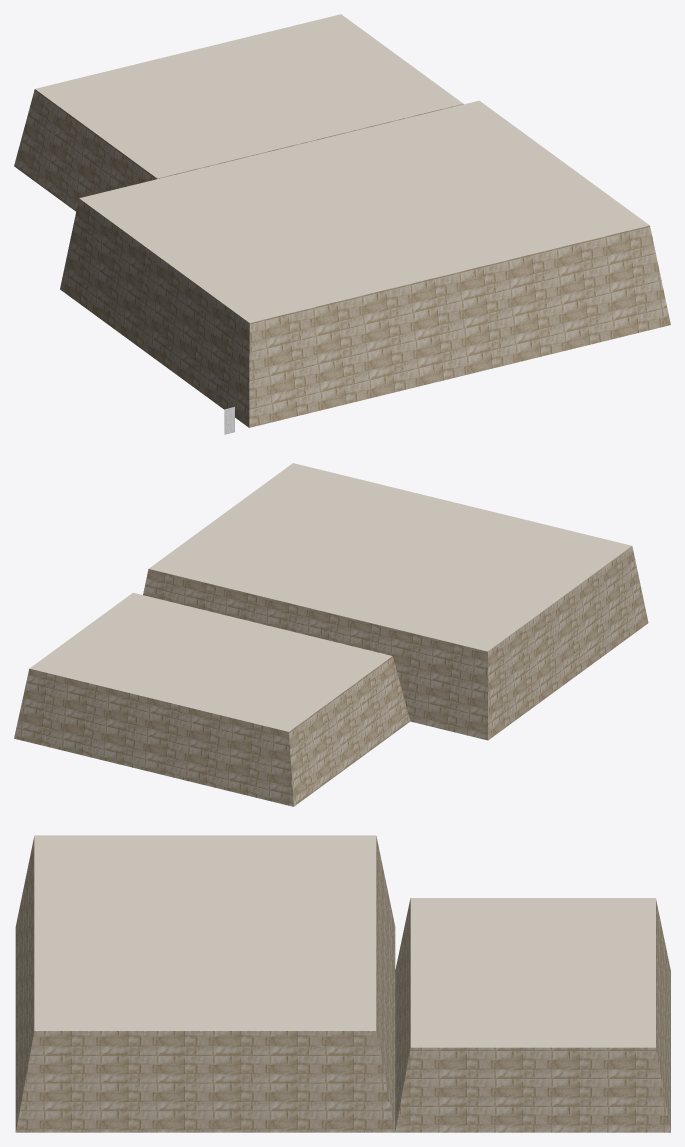
File: Lepsius_XXV.glb
3 renders of one model, top to bottom at view 1: azimuth 30°, elevation 25°; view 2: azimuth 150°, elevation 25°; view 3: azimuth 270°, elevation 25°, orthographic. The views are drawn at different scales.
Visible parts, largest first — view 1: Mesh1 Model; view 2: Mesh1 Model; view 3: Mesh1 Model.
Boxes of the visible parts, left/top/right/bottom form: Mesh1 Model: left=14, top=14, right=670, bottom=427; Mesh1 Model: left=14, top=463, right=648, bottom=806; Mesh1 Model: left=15, top=835, right=670, bottom=1132.
Size of the model in its own units: 29.38 by 6 by 37.28.
3 materials, 2 textured.
